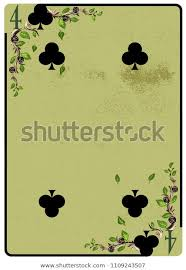four of clubs: (4, 3, 183, 255)
